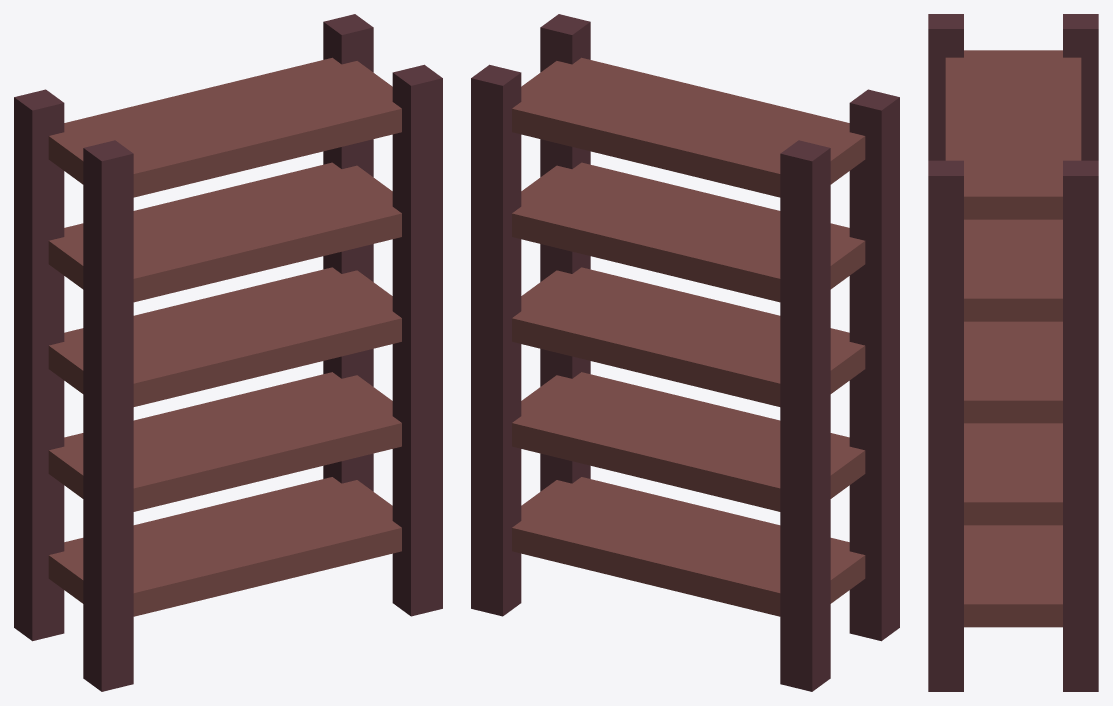
Rendered from armario-madeira-grande.fbx.
The picture shows the model from 3 angles, left to right: view 1: azimuth 30°, elevation 25°; view 2: azimuth 150°, elevation 25°; view 3: azimuth 270°, elevation 25°; orthographic projection. The views are drawn at different scales.
Visible parts, largest first — view 1: Plane.110; view 2: Plane.110; view 3: Plane.110.
Boxes of the visible parts, x1,y1,x2,y2 form: Plane.110: (14, 14, 442, 691); Plane.110: (471, 14, 899, 691); Plane.110: (928, 14, 1098, 691).
Bounding box in the file's own units: 2.66 × 3.96 × 1.19.
